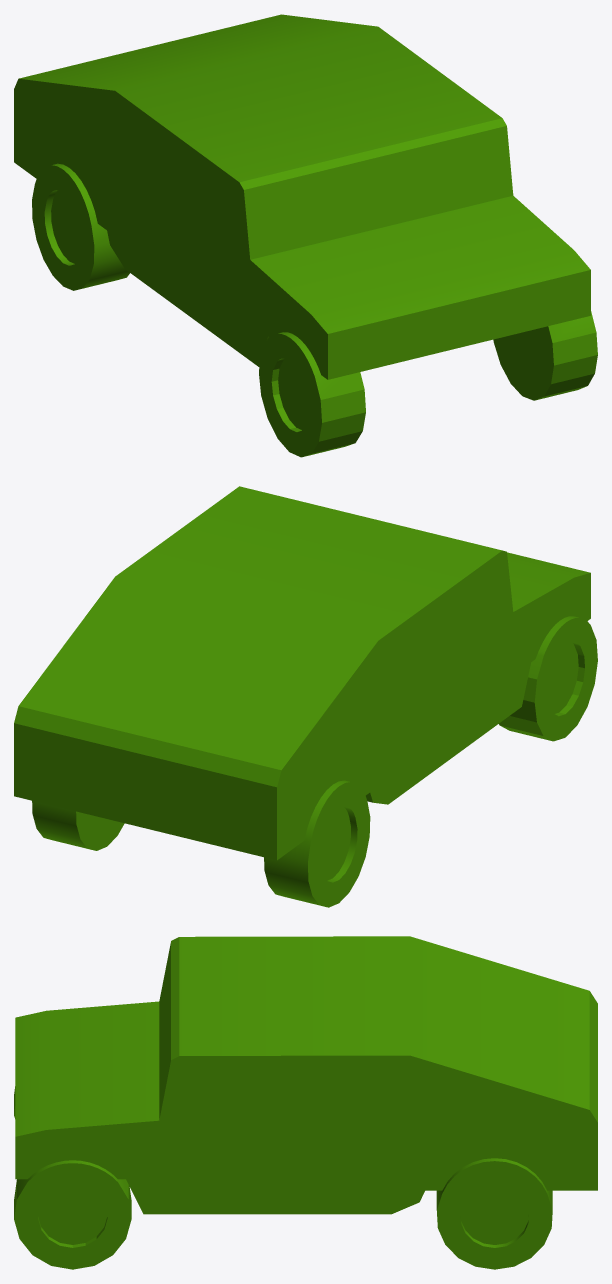
File: Boardgame_Troop_Single_Token_Green_01.fbx
The picture shows the model from 3 angles, top to bottom: view 1: azimuth 30°, elevation 25°; view 2: azimuth 150°, elevation 25°; view 3: azimuth 270°, elevation 25°; orthographic projection. The views are drawn at different scales.
Visible parts, largest first — view 1: Model; view 2: Model; view 3: Model.
Boxes of the visible parts, x1,y1,x2,y2 form: Model: (14,14,597,457); Model: (14,486,597,907); Model: (14,936,597,1269).
Size of the model in its own units: 136 by 107 by 269.
